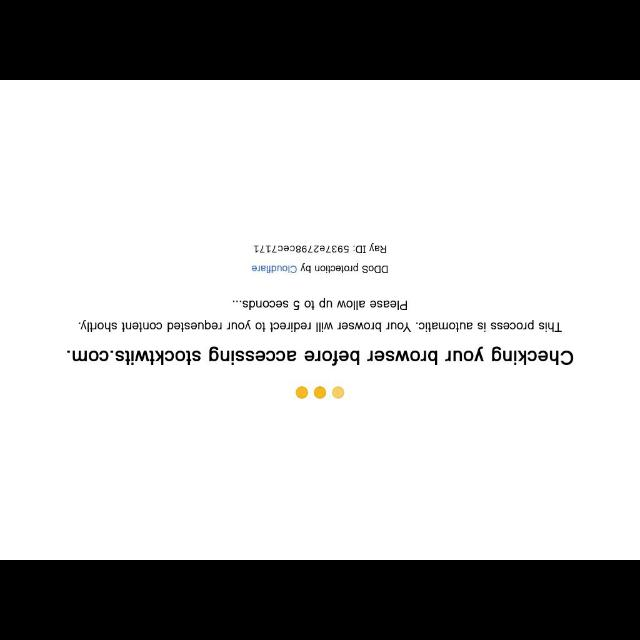image: (294, 384, 346, 398)
text: (66, 347, 574, 367), (75, 318, 563, 334), (232, 298, 410, 310), (252, 263, 388, 275), (254, 242, 386, 254)
